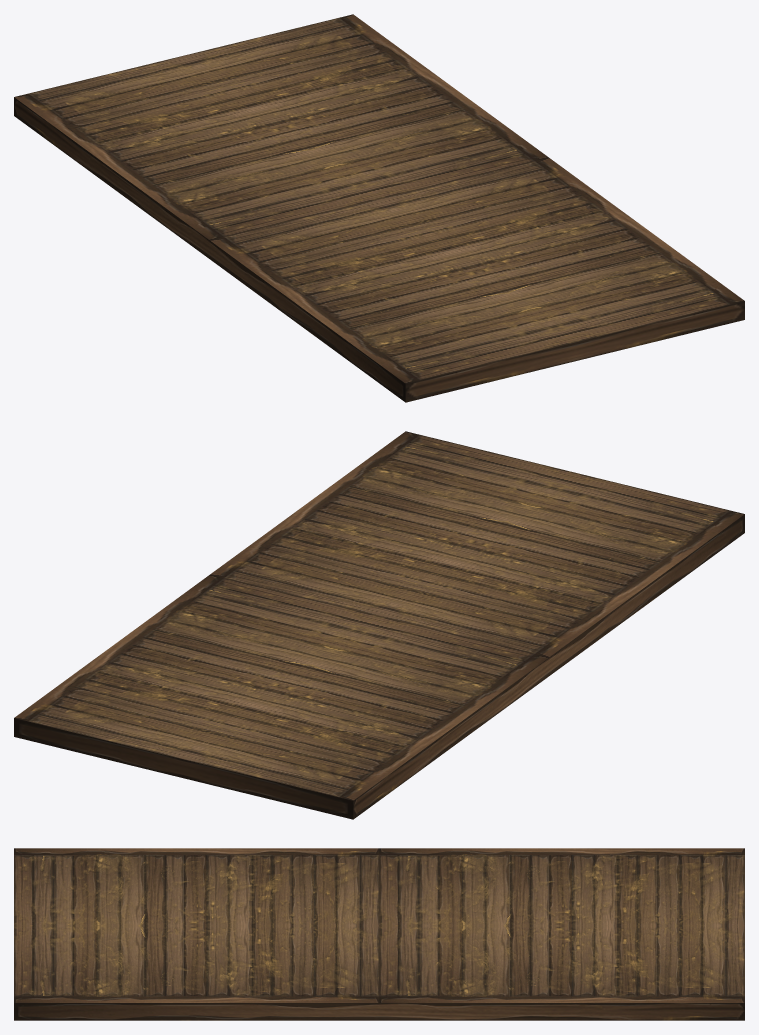
Rendered from Kit_GroundMiddle_01.FBX.
3 views of the same model, one above another, from view 1: azimuth 30°, elevation 25°; view 2: azimuth 150°, elevation 25°; view 3: azimuth 270°, elevation 25° (orthographic). The views are drawn at different scales.
Visible parts, largest first — view 1: Kit_GroundMiddle_01; view 2: Kit_GroundMiddle_01; view 3: Kit_GroundMiddle_01.
Boxes of the visible parts, bbox=[...] form: Kit_GroundMiddle_01: bbox=[14, 14, 744, 402]; Kit_GroundMiddle_01: bbox=[14, 431, 744, 819]; Kit_GroundMiddle_01: bbox=[14, 848, 744, 1020].
Bounding box in the file's own units: 4.65 × 9.29 × 0.2474.
